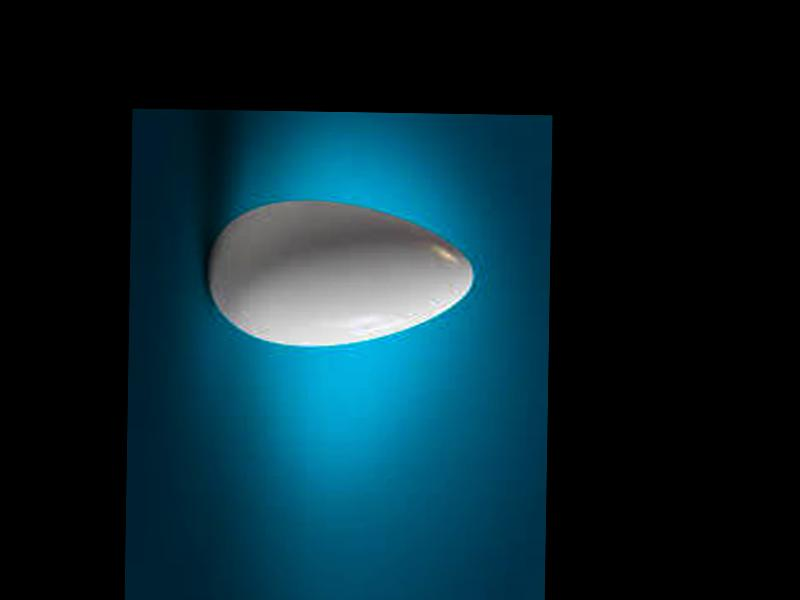Eggs: (205, 197, 473, 349)
